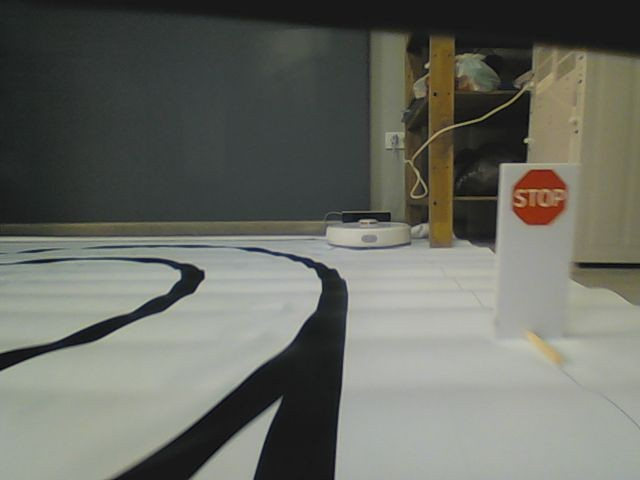Stop: (511, 168, 569, 228)
